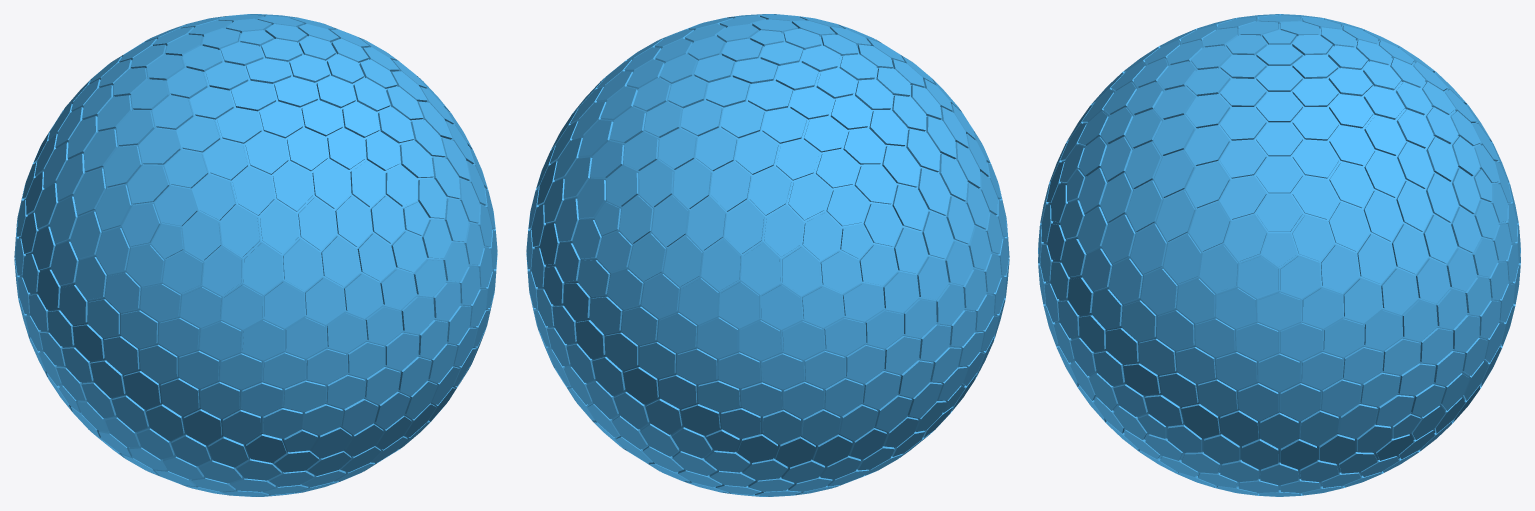
File: transparent_sphere_cave.glb
3 renders of one model, left to right at view 1: azimuth 30°, elevation 25°; view 2: azimuth 150°, elevation 25°; view 3: azimuth 270°, elevation 25°, orthographic.
Parts seen in each view (by area): view 1: Kuppel; view 2: Kuppel; view 3: Kuppel.
Boxes of the visible parts, x1,y1,x2,y2 form: Kuppel: (14, 14, 497, 496); Kuppel: (526, 14, 1009, 496); Kuppel: (1038, 14, 1520, 496).
Size of the model in its own units: 260 by 260 by 260.
